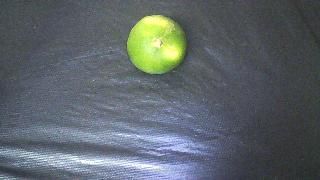LOCAL: (127, 15, 187, 74)
